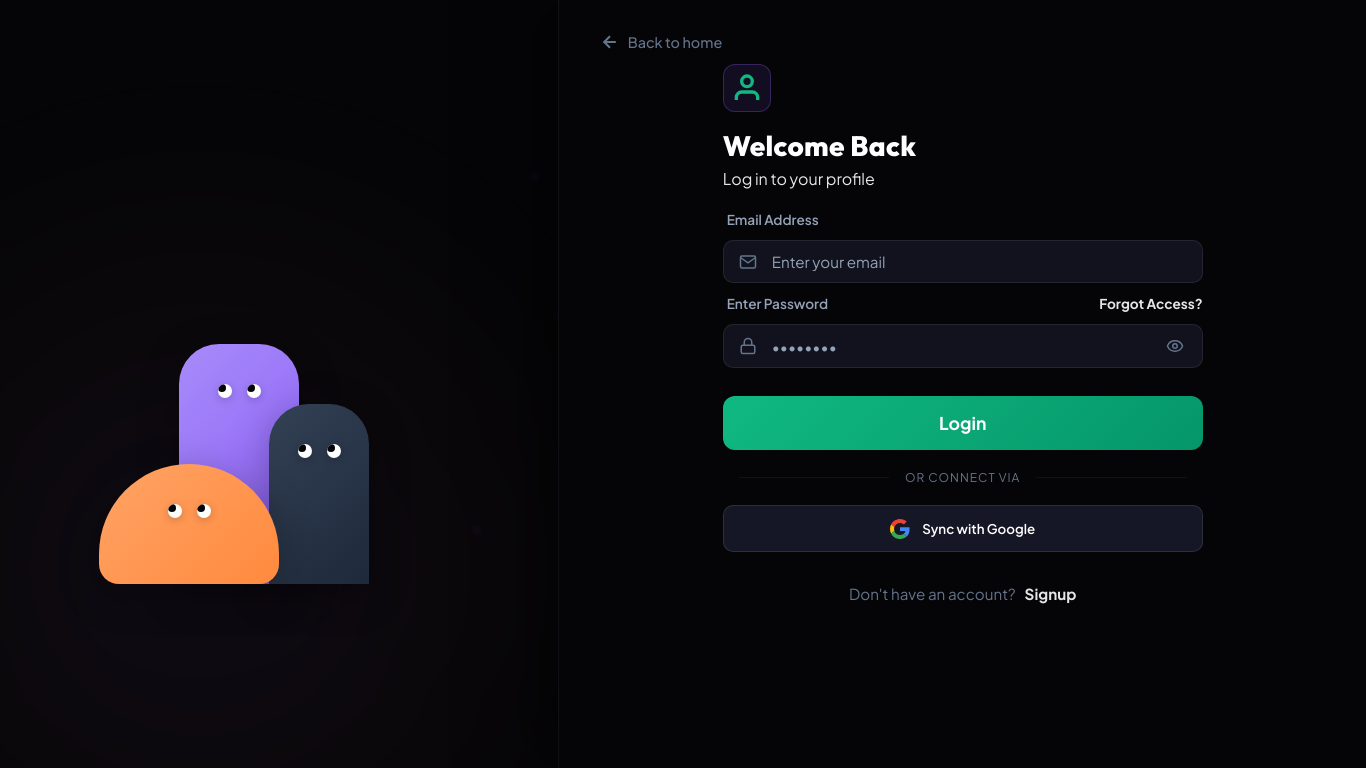
Test: wrong password shows a helpful message
The width and height of the screenshot is (1366, 768).
Type "a@x.com" into the field with placeholder "Enter your email". click: x=963, y=262
box: [723, 240, 1203, 283]
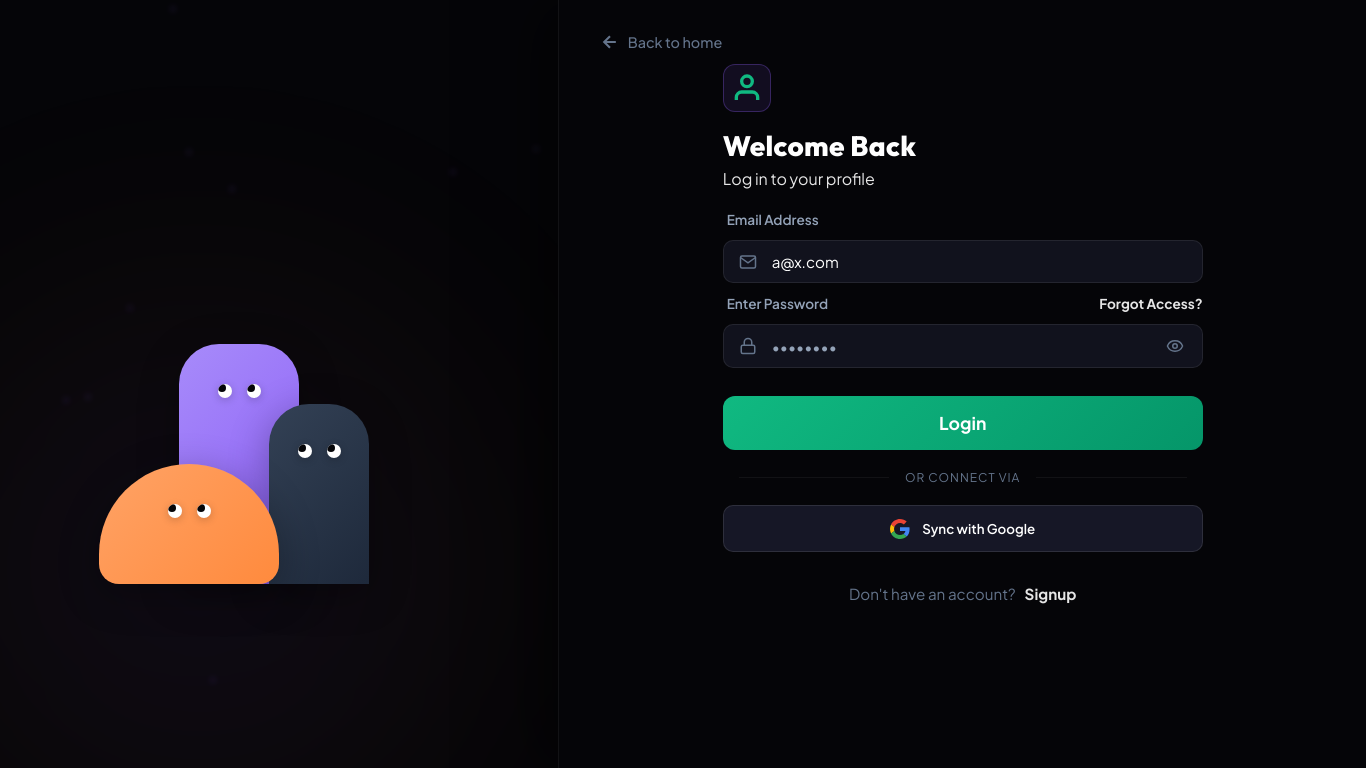
Type "bad" into the password field with placeholder "••••••••". click: x=963, y=346
box: [723, 324, 1203, 368]
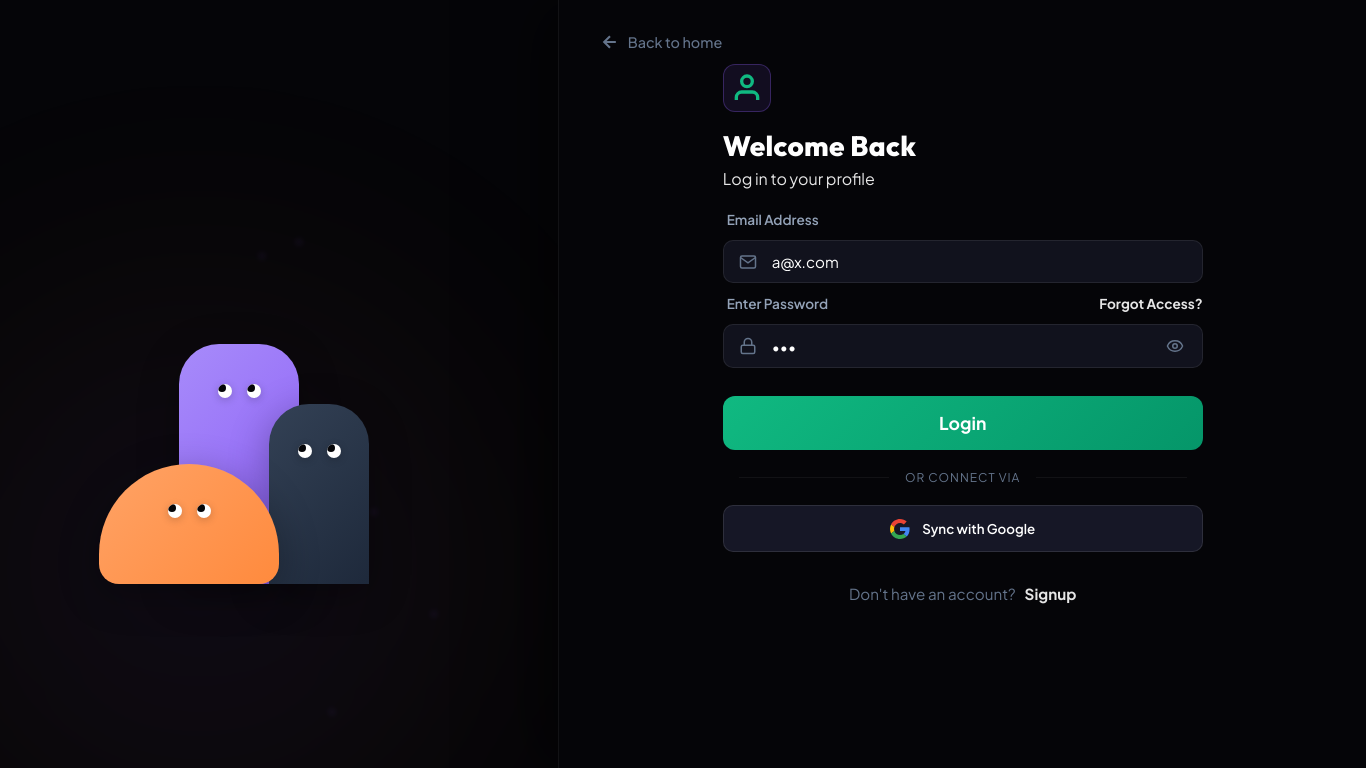
Submit the form with class "auth-form", box [723, 211, 1203, 552]
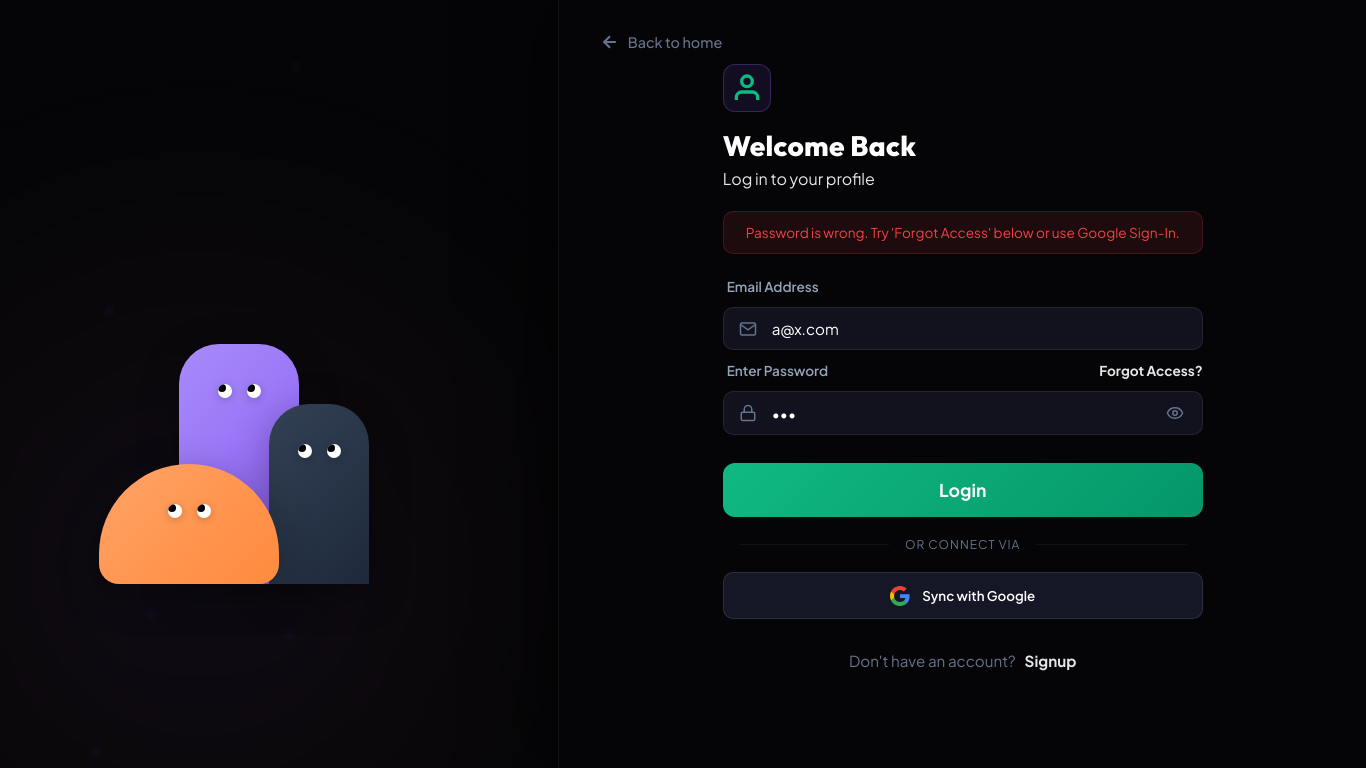
Expected: the text "Try 'Forgot Access' below" is shown, [746, 224, 1180, 241]
